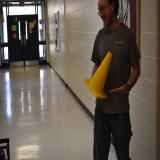cone: (84, 51, 113, 99)
